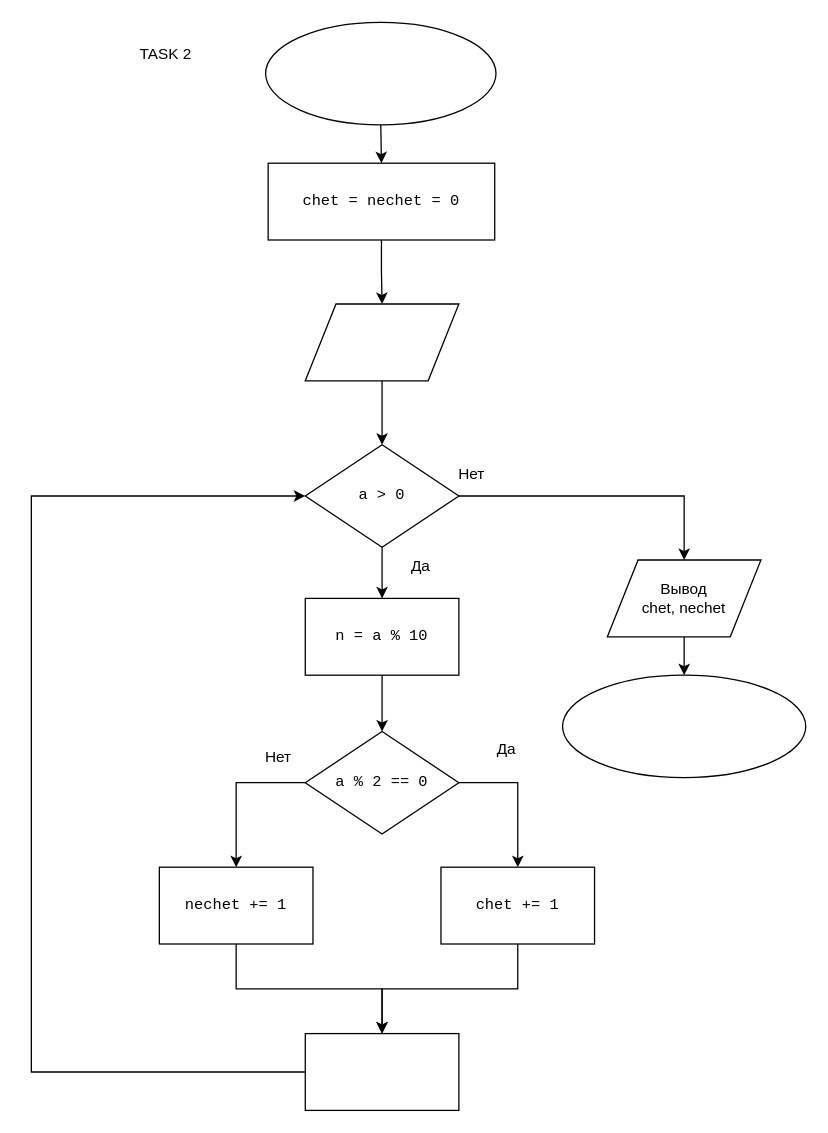
This 828x1133 diagram has some shape labels left out. The centre of each missing label's shape, as x and y in pixels:
"a = a // 10" belongs at (381,1071).
"Ввод а" belongs at (381,342).
"Конец" belongs at (683,726).
"Начало" belongs at (380,73).
